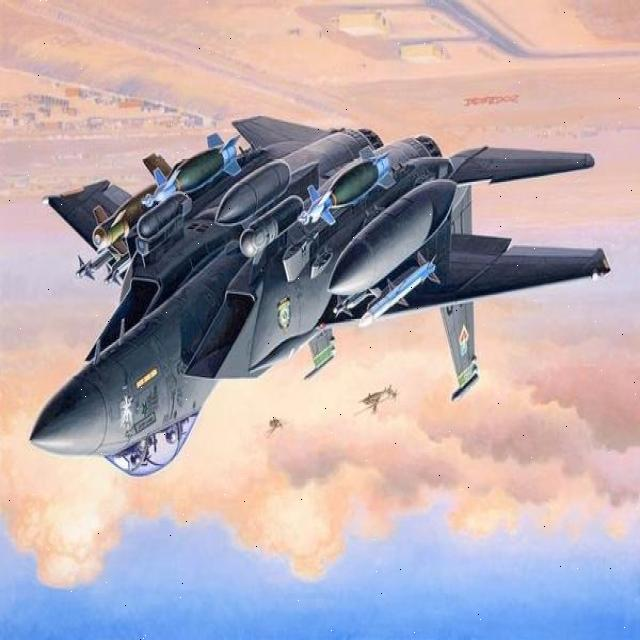F15: (16, 66, 628, 526)
